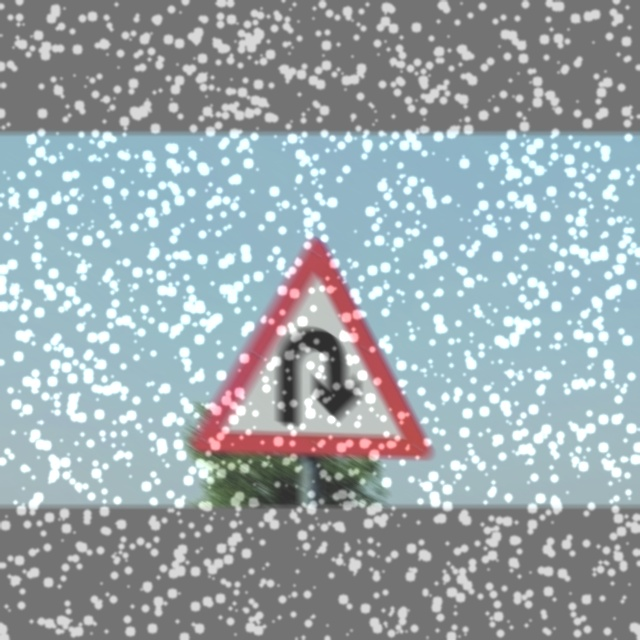Right_Hair_Pin_Bend: (200, 237, 436, 456)
